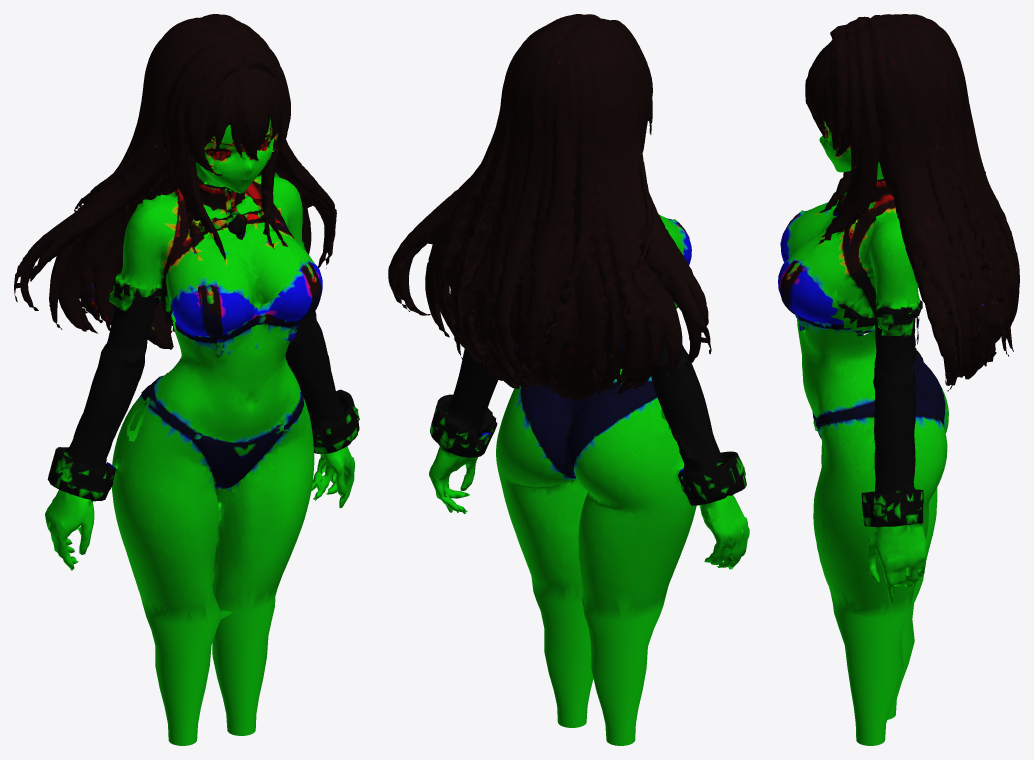
The model's file is girl.glb.
3 renders of one model, left to right at view 1: azimuth 30°, elevation 25°; view 2: azimuth 150°, elevation 25°; view 3: azimuth 270°, elevation 25°, orthographic.
Visible parts, largest first — view 1: girl; view 2: girl; view 3: girl.
Part boxes in pixels (bbox=[...]): girl: bbox=[14, 14, 359, 745]; girl: bbox=[388, 14, 749, 745]; girl: bbox=[778, 14, 1019, 745].
Bounding box in the file's own units: 1.24 × 2.61 × 0.8034.
Materials: 1 (1 with a texture image).
